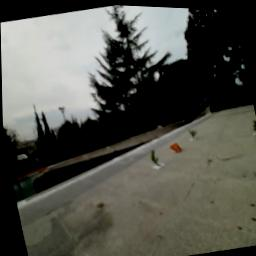herb: (149, 148, 161, 166), (188, 126, 198, 138), (252, 118, 256, 132)
wild: (168, 140, 184, 154)
